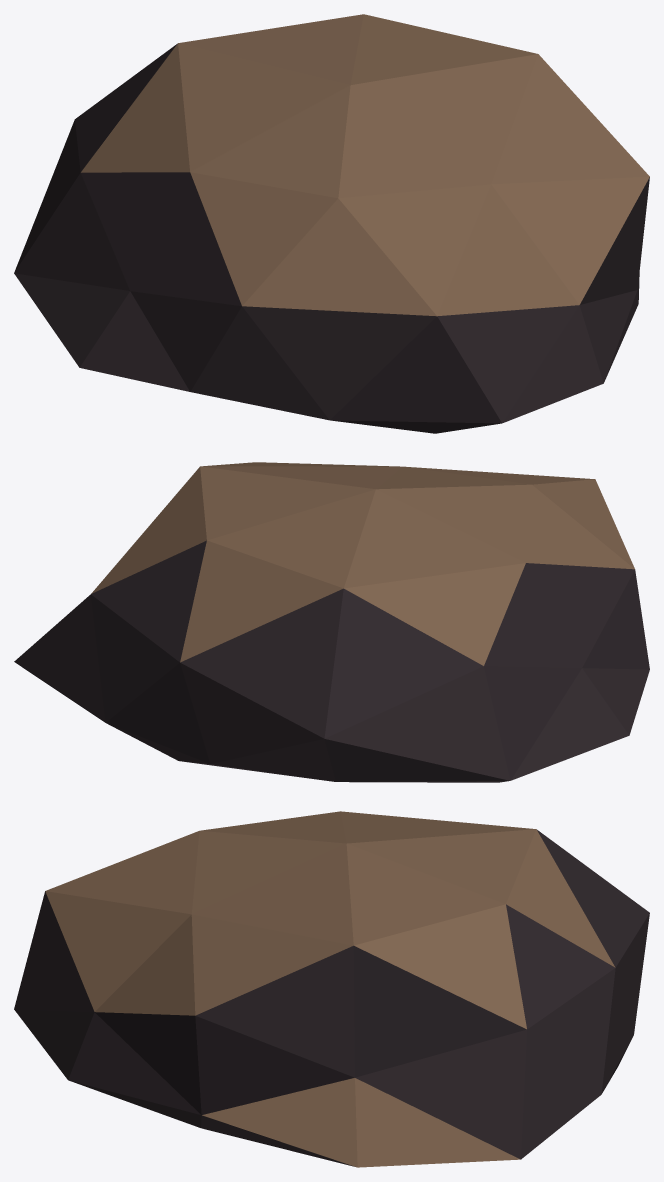
The model's file is boulder_m1.glb.
3 renders of one model, top to bottom at view 1: azimuth 30°, elevation 25°; view 2: azimuth 150°, elevation 25°; view 3: azimuth 270°, elevation 25°, orthographic. The views are drawn at different scales.
Visible parts, largest first — view 1: body__M_Cliff_Crust_T0, body__M_Cliff_Licorice; view 2: body__M_Cliff_Licorice, body__M_Cliff_Crust_T0; view 3: body__M_Cliff_Crust_T0, body__M_Cliff_Licorice.
Boxes of the visible parts, <box> form: body__M_Cliff_Crust_T0: <box>81,14,649,316</box>; body__M_Cliff_Licorice: <box>14,43,649,433</box>; body__M_Cliff_Licorice: <box>14,540,649,782</box>; body__M_Cliff_Crust_T0: <box>91,462,634,665</box>; body__M_Cliff_Crust_T0: <box>45,811,615,1167</box>; body__M_Cliff_Licorice: <box>14,829,649,1166</box>.
Bounding box in the file's own units: 0.5706 × 0.197 × 0.5908.
